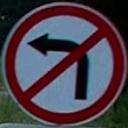NoVirarEsquerda: (6, 5, 124, 123)
